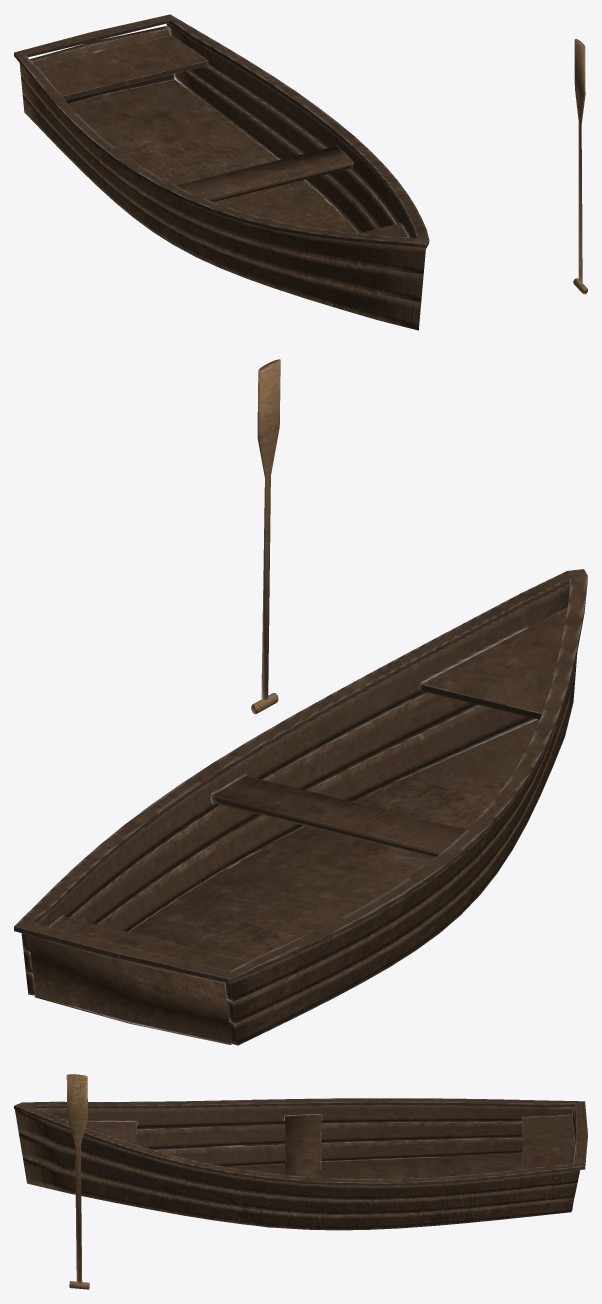
The model's file is rowboat.fbx.
3 renders of one model, top to bottom at view 1: azimuth 30°, elevation 25°; view 2: azimuth 150°, elevation 25°; view 3: azimuth 270°, elevation 25°, orthographic. The views are drawn at different scales.
Visible parts, largest first — view 1: row_boat, paddle; view 2: row_boat, paddle; view 3: row_boat, paddle.
Part boxes in pixels (x1,y1,x2,y2): row_boat: [14, 14, 429, 330]; paddle: [573, 39, 587, 294]; row_boat: [14, 569, 587, 1045]; paddle: [251, 359, 280, 714]; row_boat: [14, 1098, 587, 1230]; paddle: [66, 1074, 89, 1289].
Size of the model in its own units: 338 by 268 by 657.
